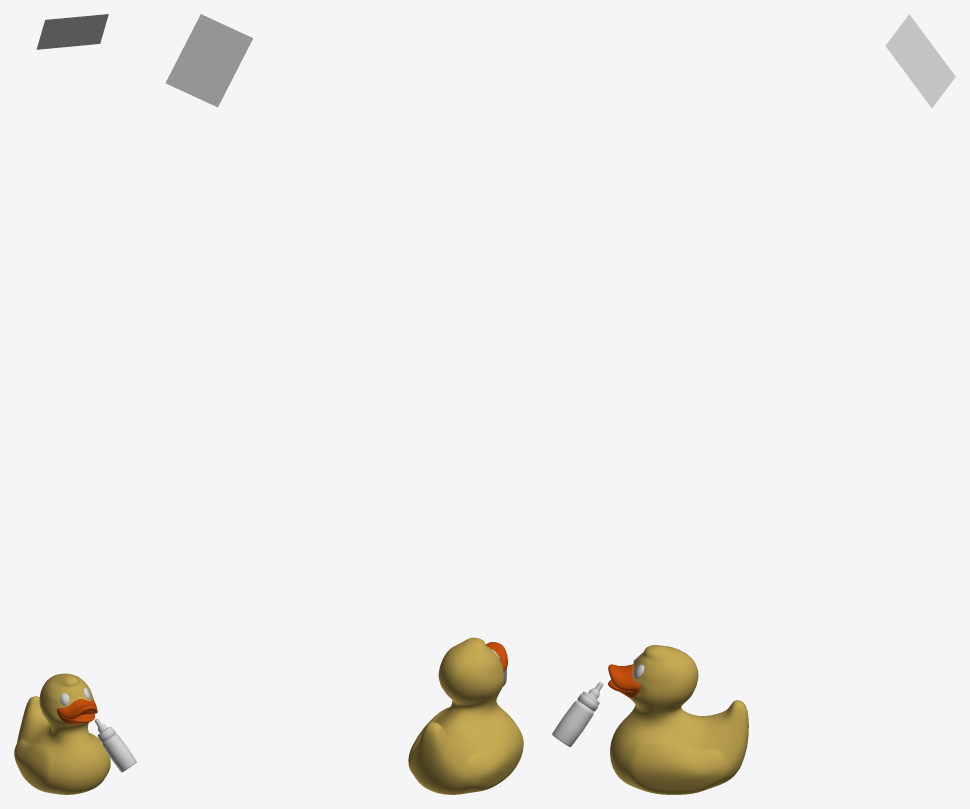
Rendered from Duck_Baby.dae.
3 views of the same model, side by side, from view 1: azimuth 30°, elevation 25°; view 2: azimuth 150°, elevation 25°; view 3: azimuth 270°, elevation 25° (orthographic). The views are drawn at different scales.
Visible parts, largest first — view 1: Rubber_Duck, Light1, Cylinder; view 2: Rubber_Duck, Light1; view 3: Rubber_Duck, Light1, Cylinder.
Boxes of the visible parts, bbox=[...] form: Rubber_Duck: bbox=[14, 673, 110, 794]; Light1: bbox=[36, 14, 108, 49]; Cylinder: bbox=[94, 718, 136, 772]; Rubber_Duck: bbox=[408, 637, 523, 794]; Light1: bbox=[165, 14, 252, 107]; Rubber_Duck: bbox=[608, 645, 748, 794]; Light1: bbox=[885, 14, 955, 107]; Cylinder: bbox=[552, 682, 603, 747].
Bounding box in the file's own units: 6.1 × 9.68 × 21.57.
